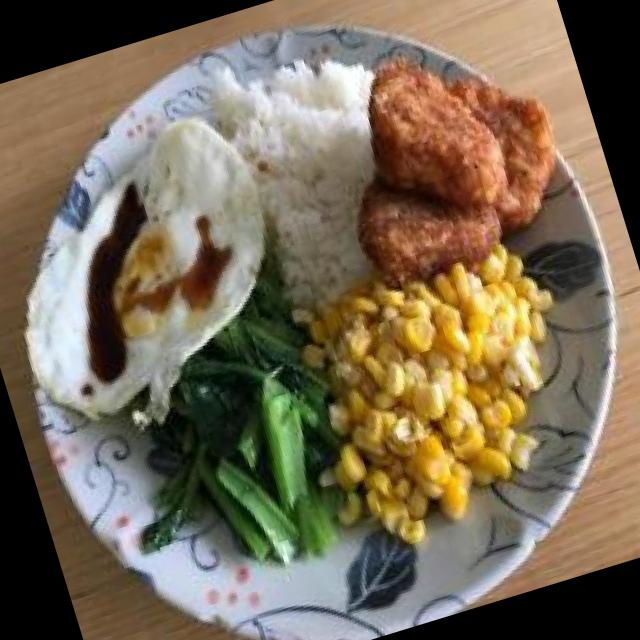fried_eggs: (0, 104, 303, 428)
rice: (224, 44, 416, 305)
triangle_hash_brown: (314, 17, 583, 294)
water_spinach: (124, 302, 366, 600)
